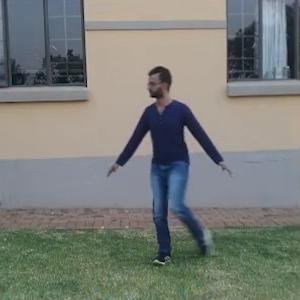land: (110, 77, 232, 238)
